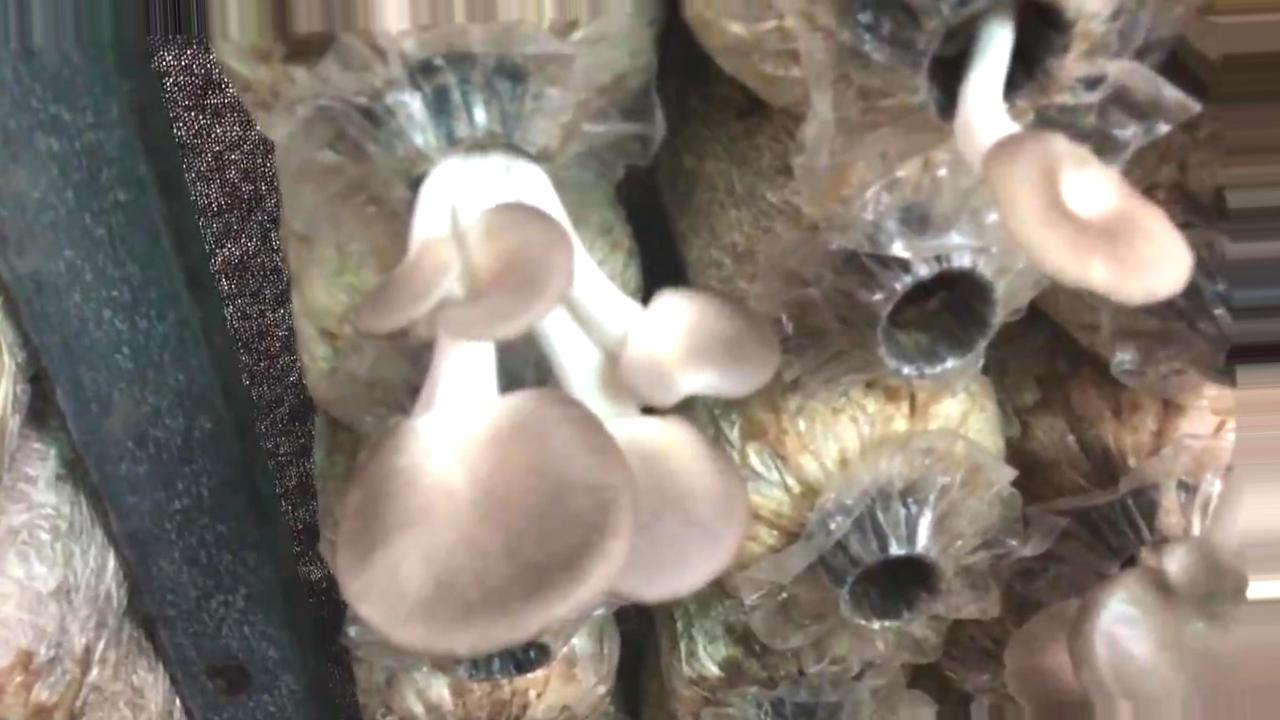nam: (336, 81, 778, 653), (914, 1, 1195, 305)
